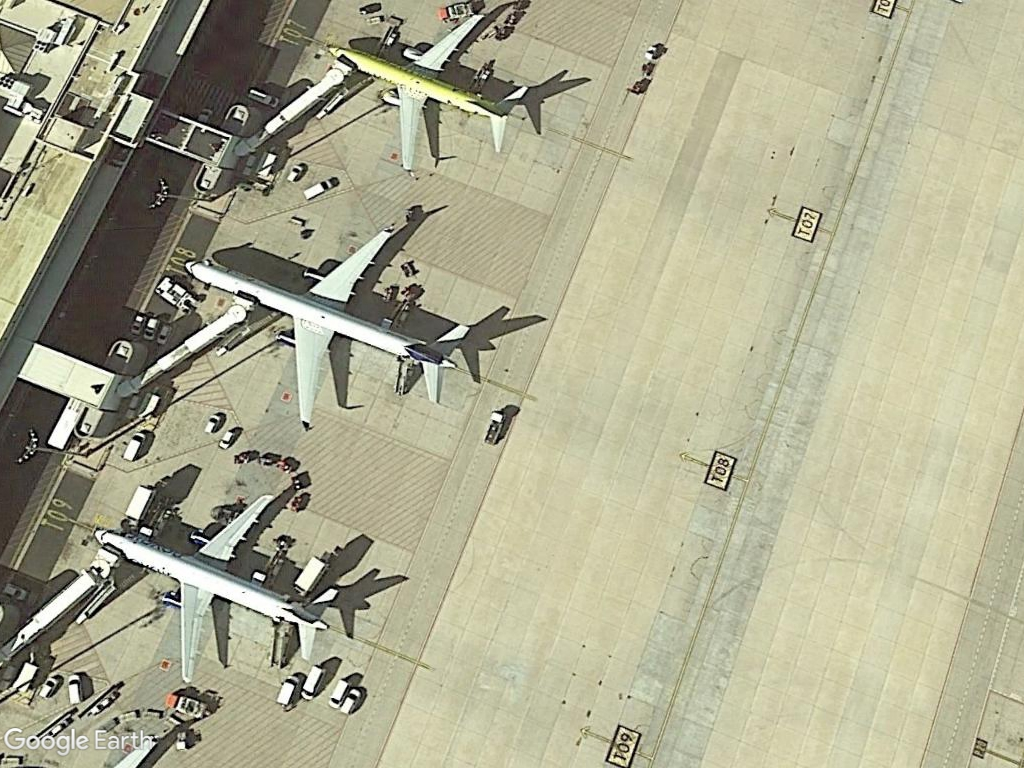airliner: (179, 206, 478, 443), (87, 481, 355, 688), (317, 4, 532, 179)
van: (63, 672, 87, 712)
